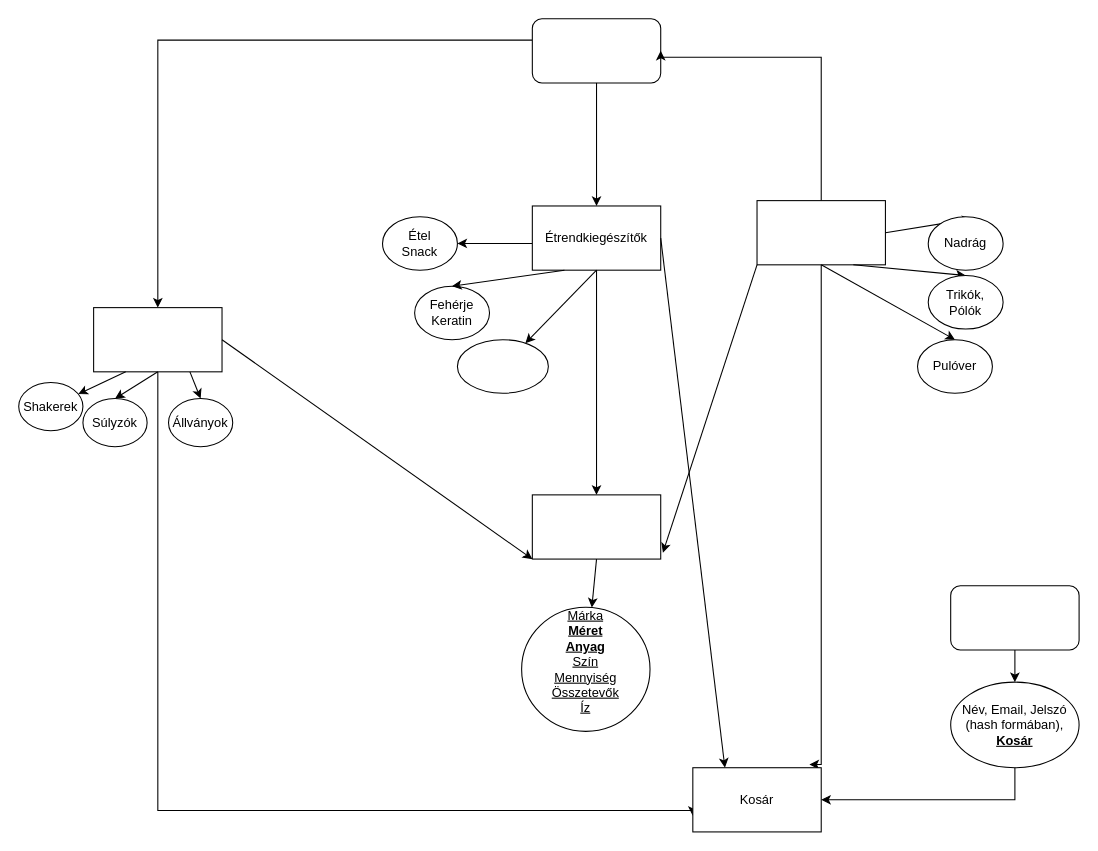
This 1098x851 diagram has some shape labels left out. Here are the shapes that lost their labels. From the top down, the centre of each, then its label:
At (596,50): "Termékek".
At (820,232): "Ruházat".
At (157,339): "Kiegészítők".
At (502,366): "Vitaminok".
At (596,526): "Szűrő".
At (1014,617): "Felhasználói adatok".
